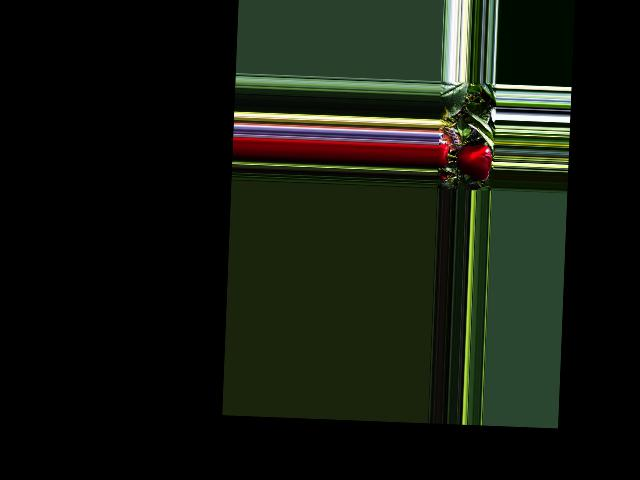bell_pepper: (436, 141, 452, 169)
